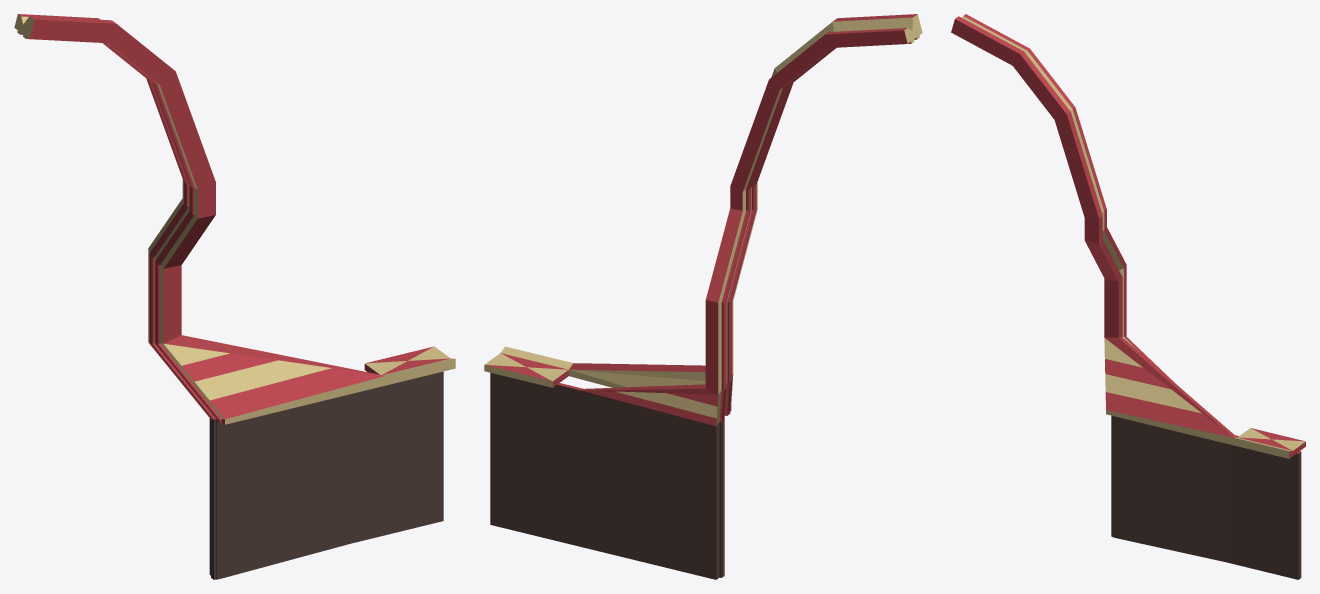
The model's file is Ship1_Paddle.fbx.
3 renders of one model, left to right at view 1: azimuth 30°, elevation 25°; view 2: azimuth 150°, elevation 25°; view 3: azimuth 330°, elevation 25°, orthographic. The views are drawn at different scales.
Visible parts, largest first — view 1: Model; view 2: Model; view 3: Model.
Boxes of the visible parts, x1,y1,x2,y2 form: Model: (14, 14, 455, 579); Model: (484, 14, 922, 579); Model: (951, 14, 1305, 579).
Size of the model in its own units: 1213 by 1665 by 221.
